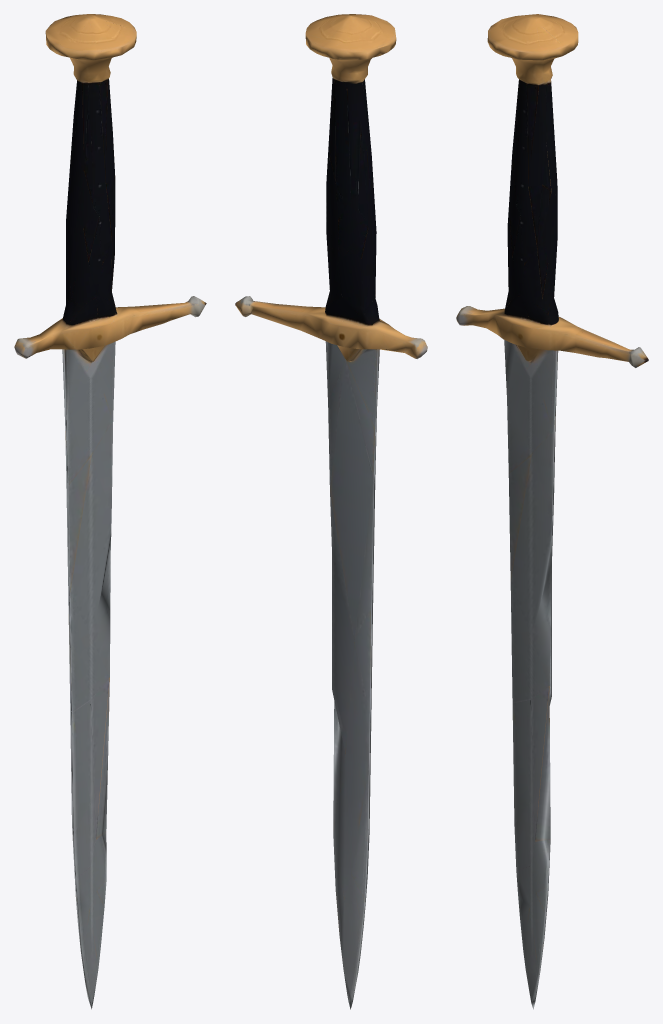
The model's file is wpn_dao-linh.glb.
3 views of the same model, side by side, from view 1: azimuth 30°, elevation 25°; view 2: azimuth 150°, elevation 25°; view 3: azimuth 330°, elevation 25° (orthographic).
Size of the model in its own units: 0.3784 by 1.9 by 0.1578.
Materials: 1 (1 with a texture image).
